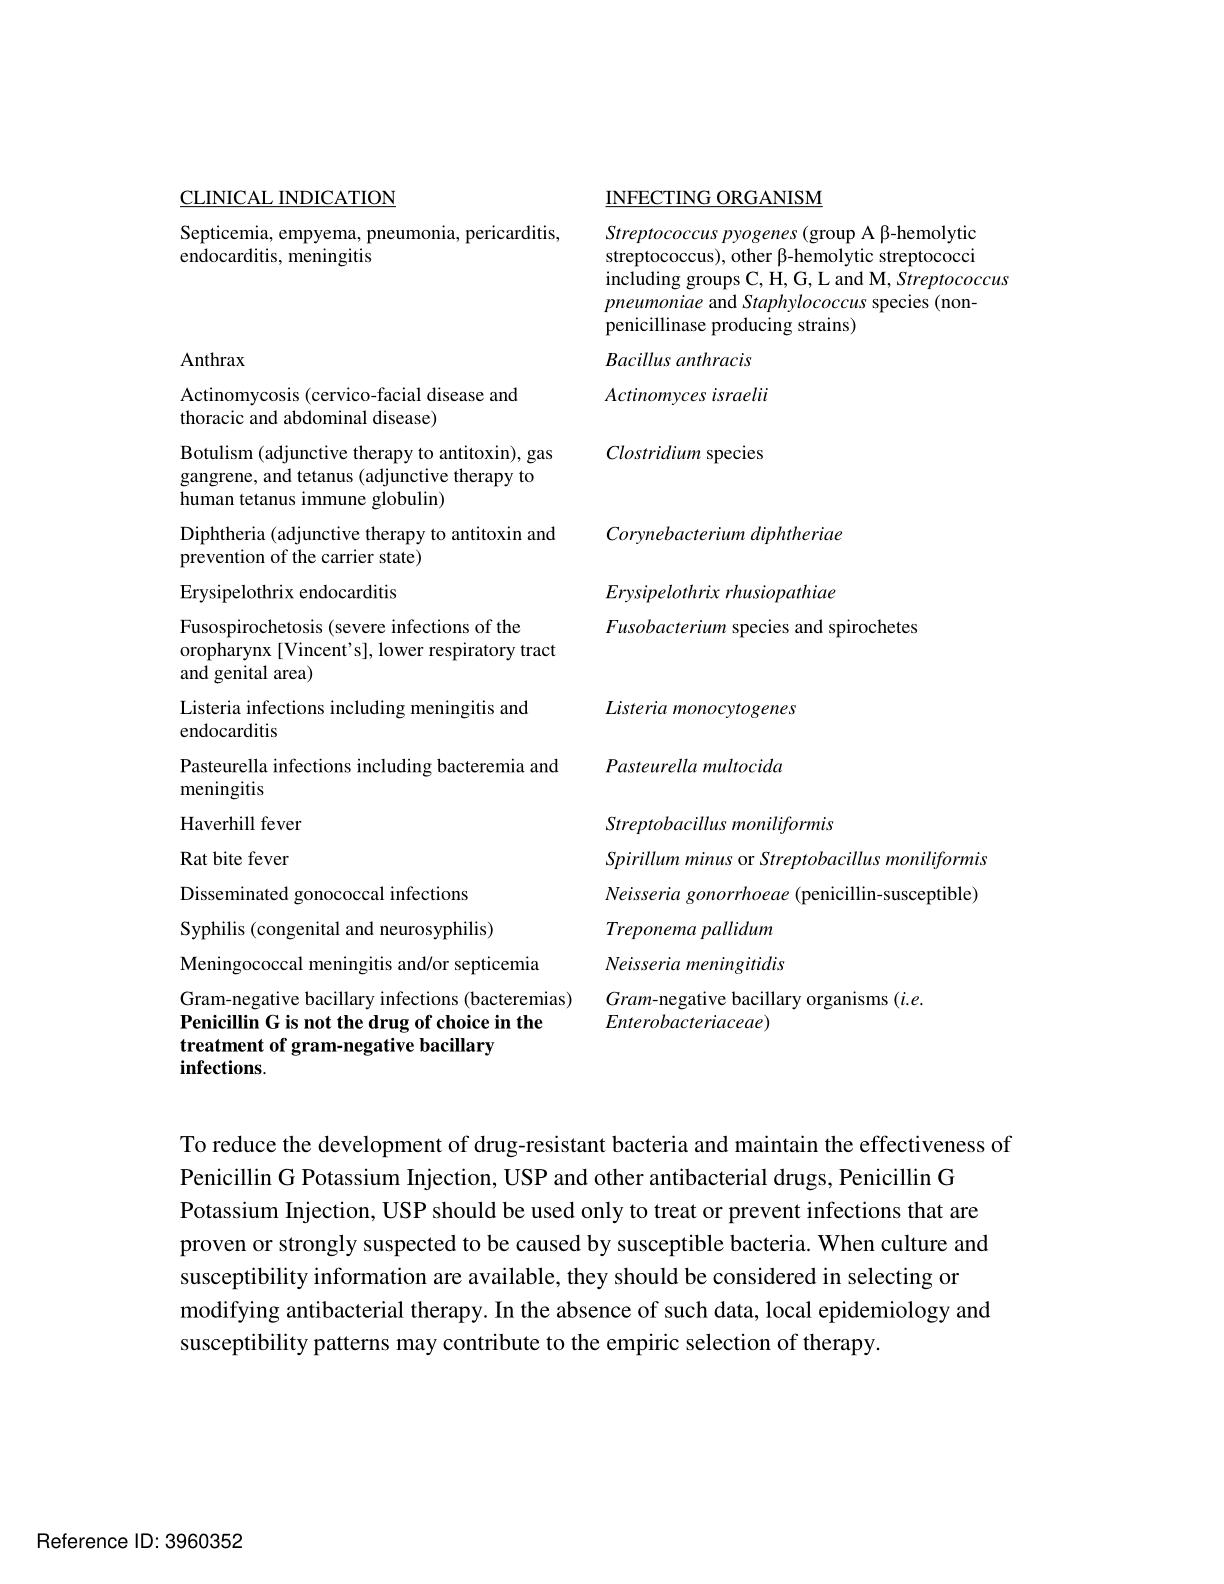nolines: (177, 185, 1011, 1077)
